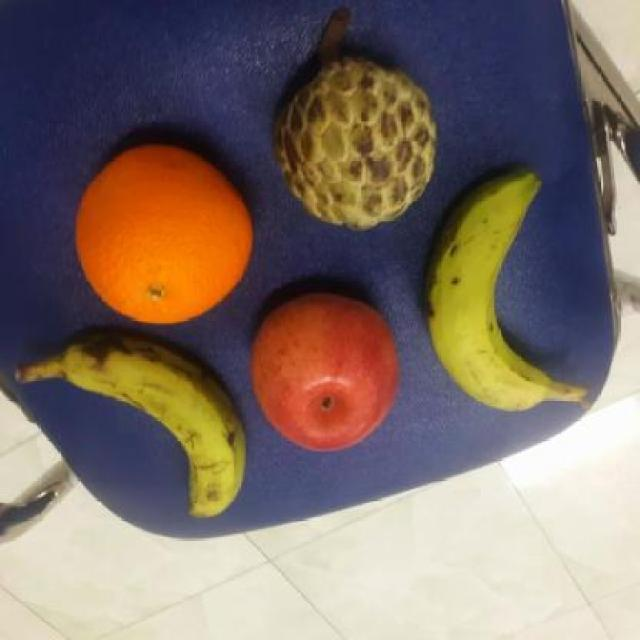apple: (246, 292, 403, 456)
banana: (59, 326, 250, 523), (423, 170, 566, 415)
oren: (71, 143, 257, 329)
sugar apple: (270, 60, 441, 232)
